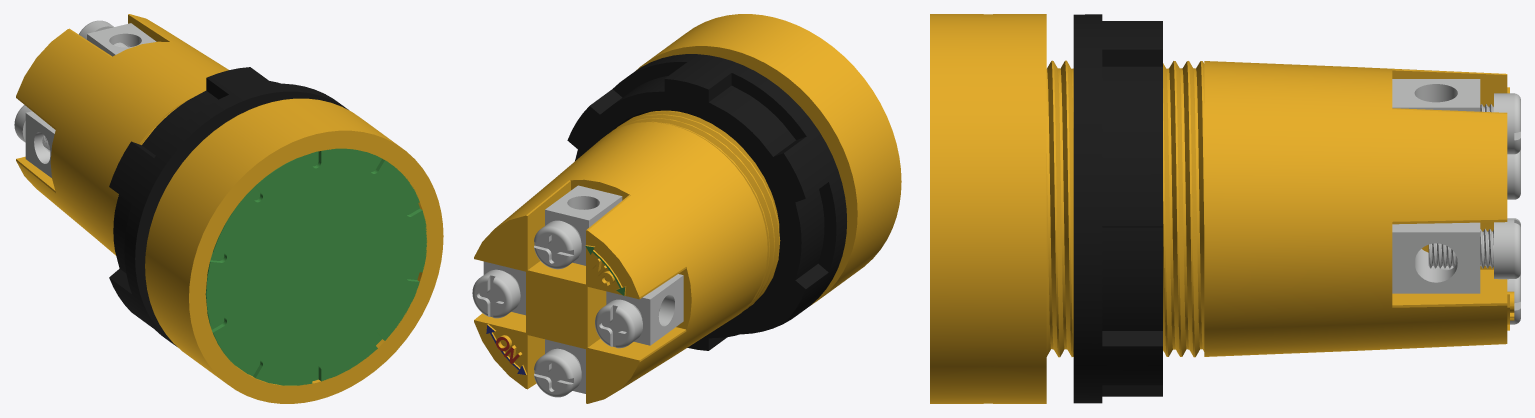
File: 25mm Push Button SwitchGreen v0.fbx
The picture shows the model from 3 angles, left to right: view 1: azimuth 30°, elevation 25°; view 2: azimuth 150°, elevation 25°; view 3: azimuth 270°, elevation 25°; orthographic projection. The views are drawn at different scales.
Visible parts, largest first — view 1: Body1 (×6); view 2: Body1 (×10); view 3: Body1 (×7).
Part boxes in pixels (box(x1,y1,x2,y2)): Body1 (×6): box(14, 14, 443, 403); Body1 (×10): box(472, 14, 901, 403); Body1 (×7): box(930, 14, 1520, 403).
Size of the model in its own units: 28.8 by 28.8 by 43.6.
